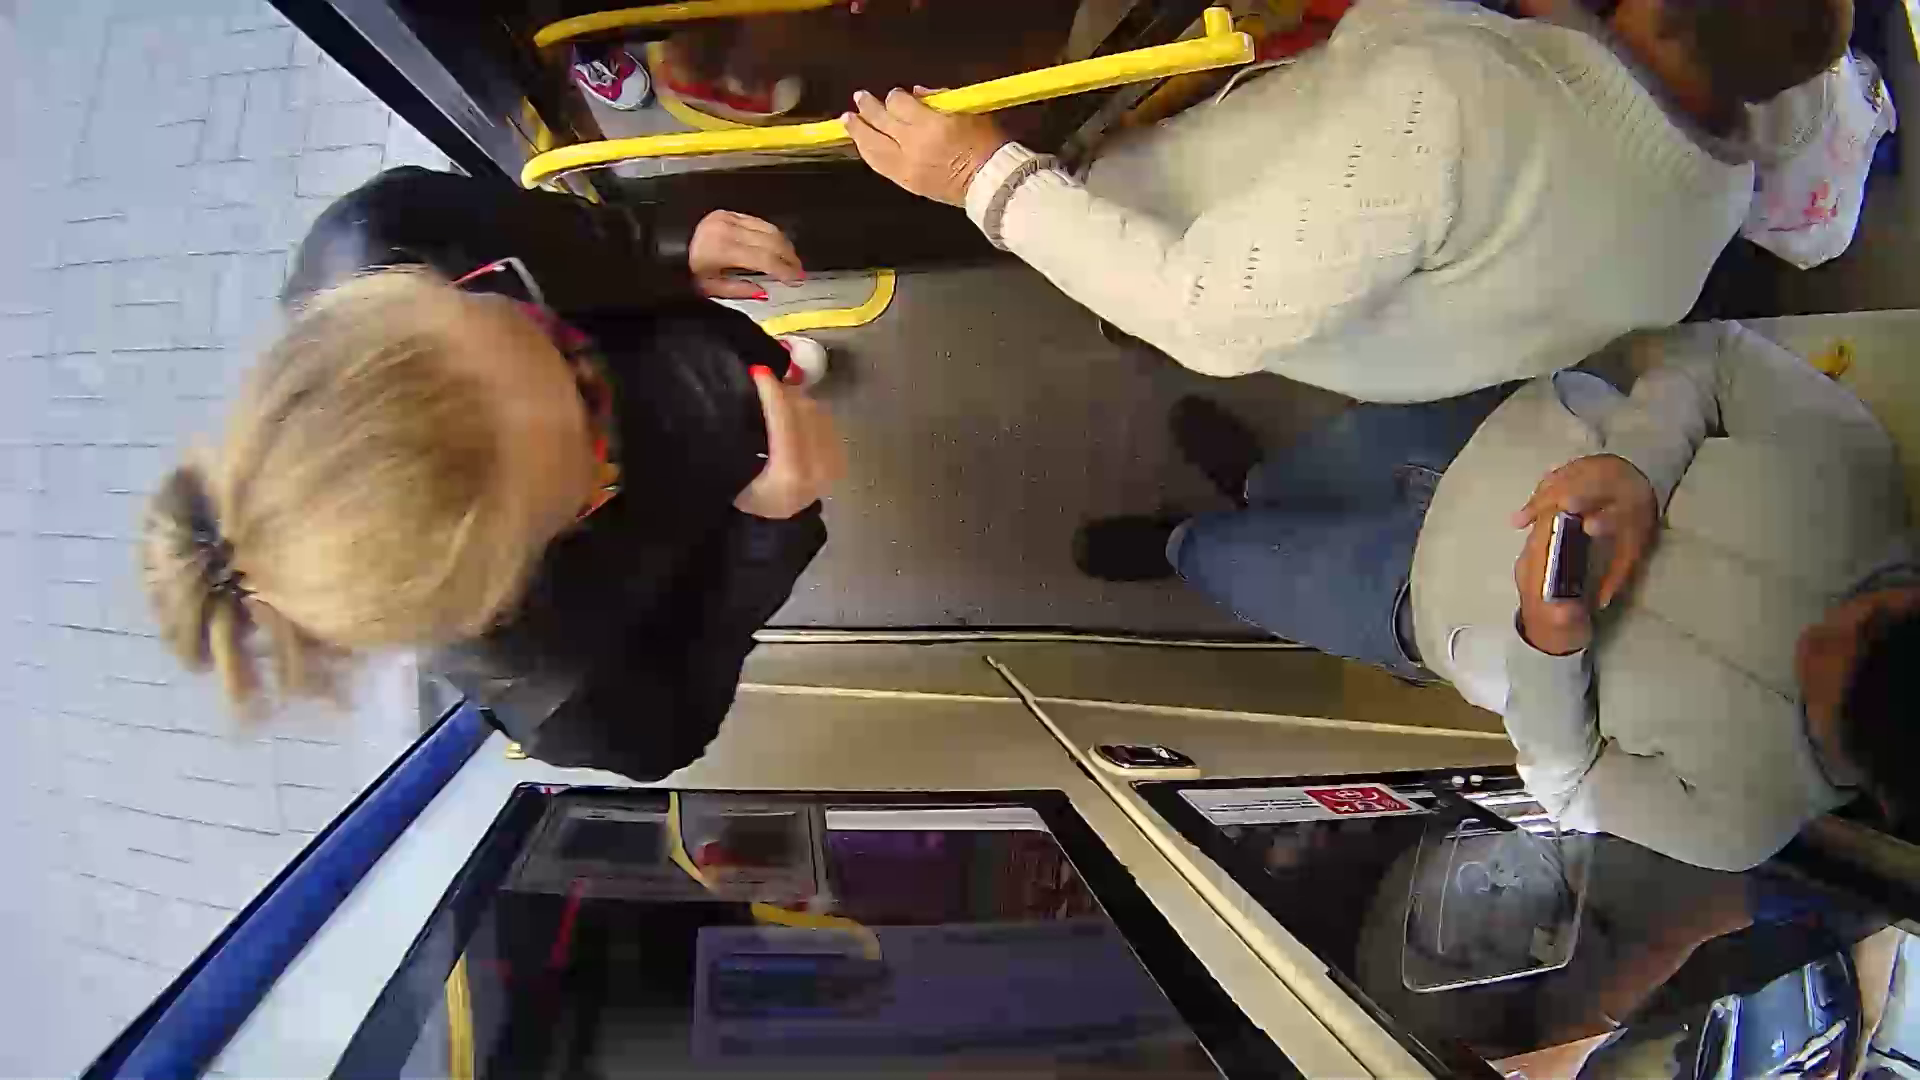person: (1036, 317, 1850, 891), (183, 194, 934, 738)
